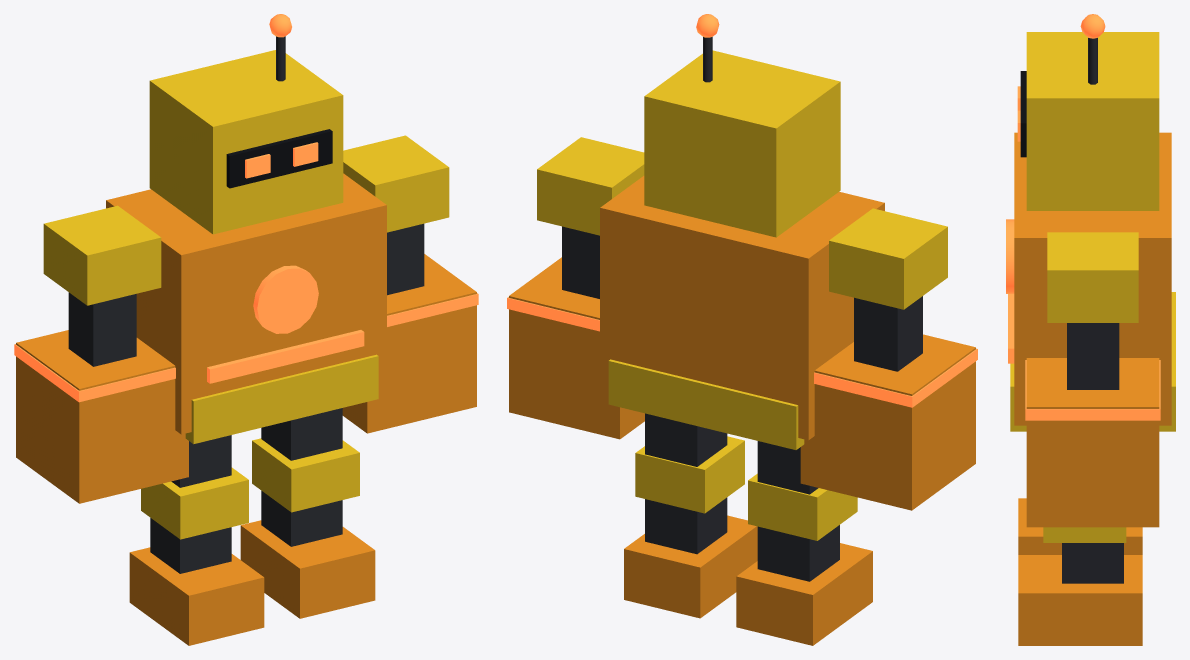
File: robot_brawler_orange.glb
3 views of the same model, side by side, from view 1: azimuth 30°, elevation 25°; view 2: azimuth 150°, elevation 25°; view 3: azimuth 270°, elevation 25° (orthographic). The views are drawn at different scales.
Parts seen in each view (by area): view 1: torso, arm_R, head, arm_L, leg_L, leg_R; view 2: torso, arm_R, head, arm_L, leg_L, leg_R; view 3: arm_L, head, torso, leg_L, leg_R.
Boxes of the visible parts, bbox=[...] form: torso: bbox=[106, 173, 386, 444]; arm_R: bbox=[14, 205, 188, 503]; head: bbox=[149, 14, 343, 234]; arm_L: bbox=[342, 135, 478, 433]; leg_L: bbox=[240, 408, 375, 618]; leg_R: bbox=[129, 435, 264, 645]; torso: bbox=[600, 176, 884, 449]; arm_R: bbox=[800, 208, 977, 510]; head: bbox=[644, 14, 840, 237]; arm_L: bbox=[507, 137, 644, 439]; leg_L: bbox=[624, 413, 757, 618]; leg_R: bbox=[736, 441, 872, 645]; arm_L: bbox=[1025, 232, 1160, 527]; head: bbox=[1017, 14, 1159, 210]; torso: bbox=[1006, 132, 1175, 431]; leg_L: bbox=[1018, 527, 1142, 645]; leg_R: bbox=[1018, 498, 1142, 554].
Bounding box in the file's own units: 1.17 × 1.6 × 0.41.
